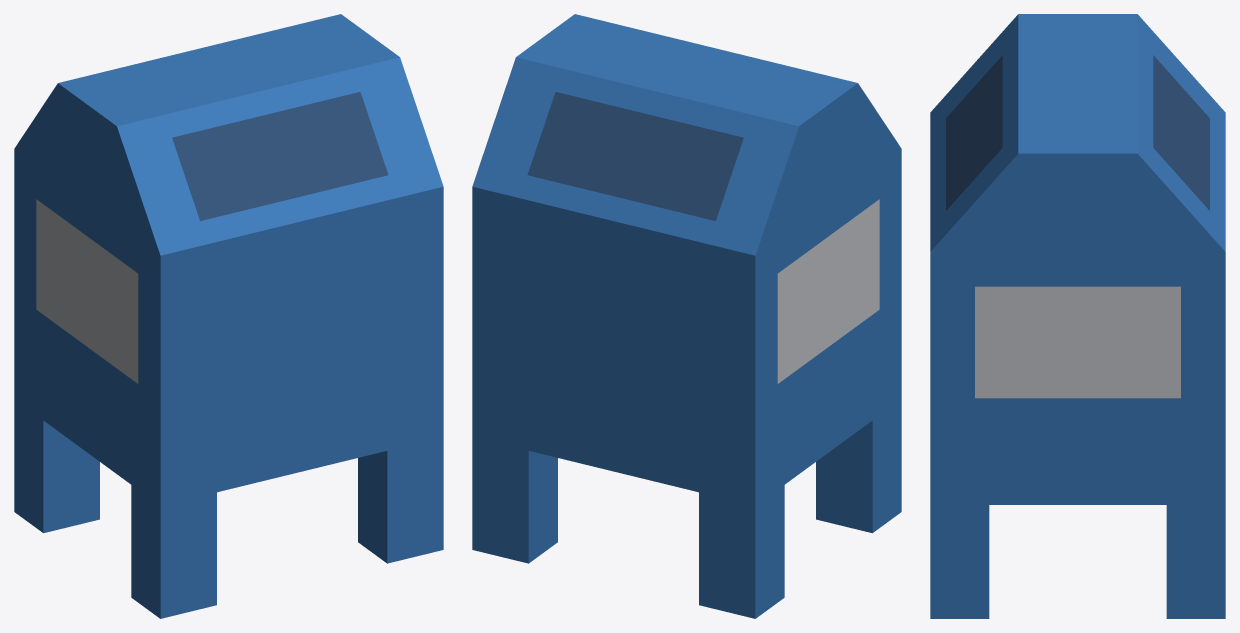
File: SM_Prop_MailBox_01.fbx
3 views of the same model, side by side, from view 1: azimuth 30°, elevation 25°; view 2: azimuth 150°, elevation 25°; view 3: azimuth 270°, elevation 25° (orthographic).
Visible parts, largest first — view 1: SM_Prop_MailBox_01; view 2: SM_Prop_MailBox_01; view 3: SM_Prop_MailBox_01.
Part boxes in pixels (bbox=[...]): SM_Prop_MailBox_01: bbox=[14, 14, 443, 618]; SM_Prop_MailBox_01: bbox=[472, 14, 901, 618]; SM_Prop_MailBox_01: bbox=[930, 14, 1225, 618].
Bounding box in the file's own units: 24.1 × 37.47 × 21.54.
